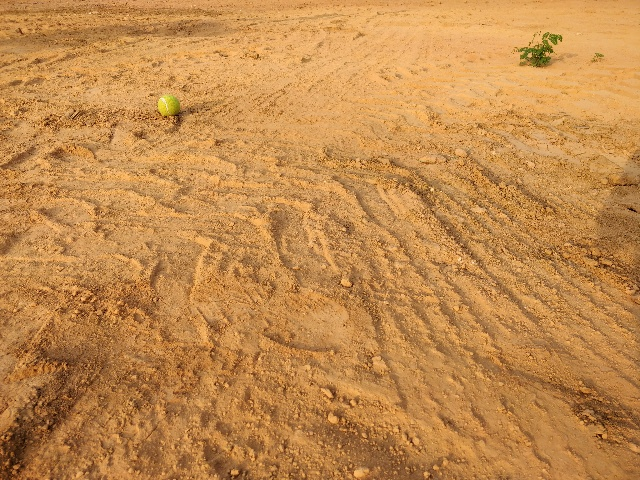ball: (153, 87, 183, 122)
